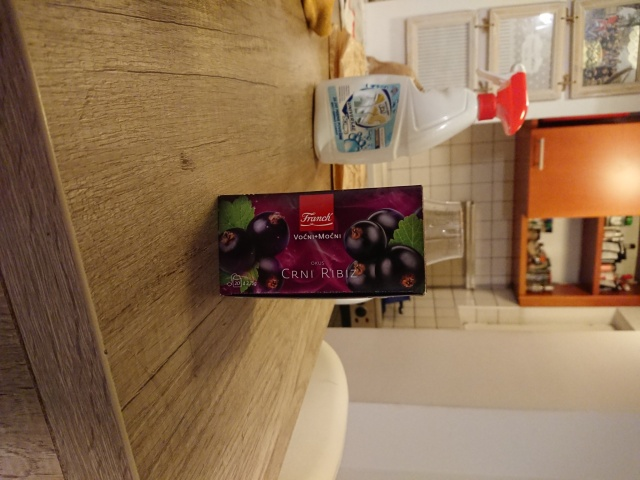Franck Black Currant Tea 60g: (215, 182, 429, 302)
